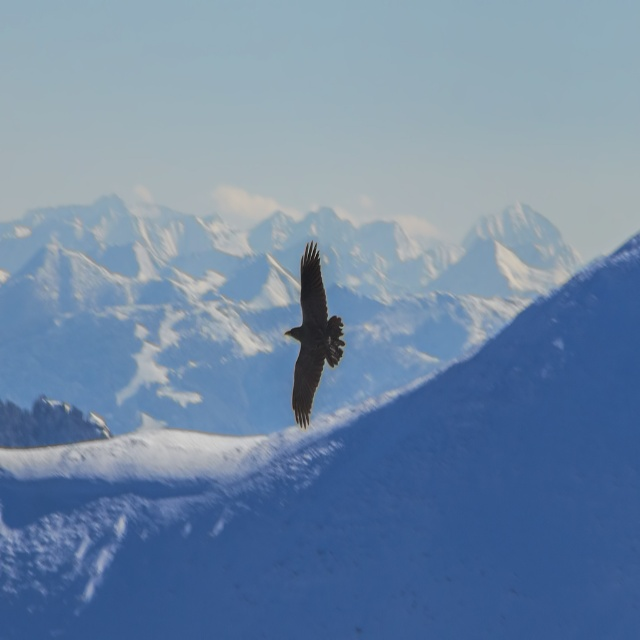Eagle: (284, 240, 345, 429)
